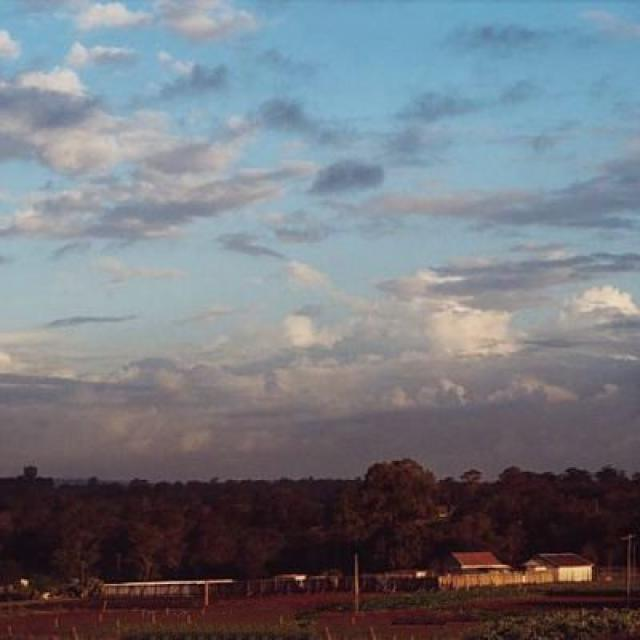Sc: (3, 56, 640, 456)
